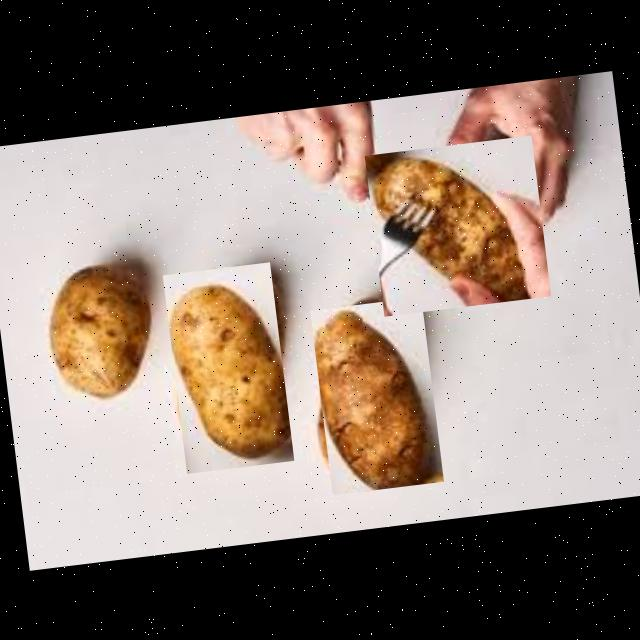Defected potato: (363, 134, 550, 315), (161, 260, 293, 472), (308, 296, 442, 494), (29, 246, 169, 420)
